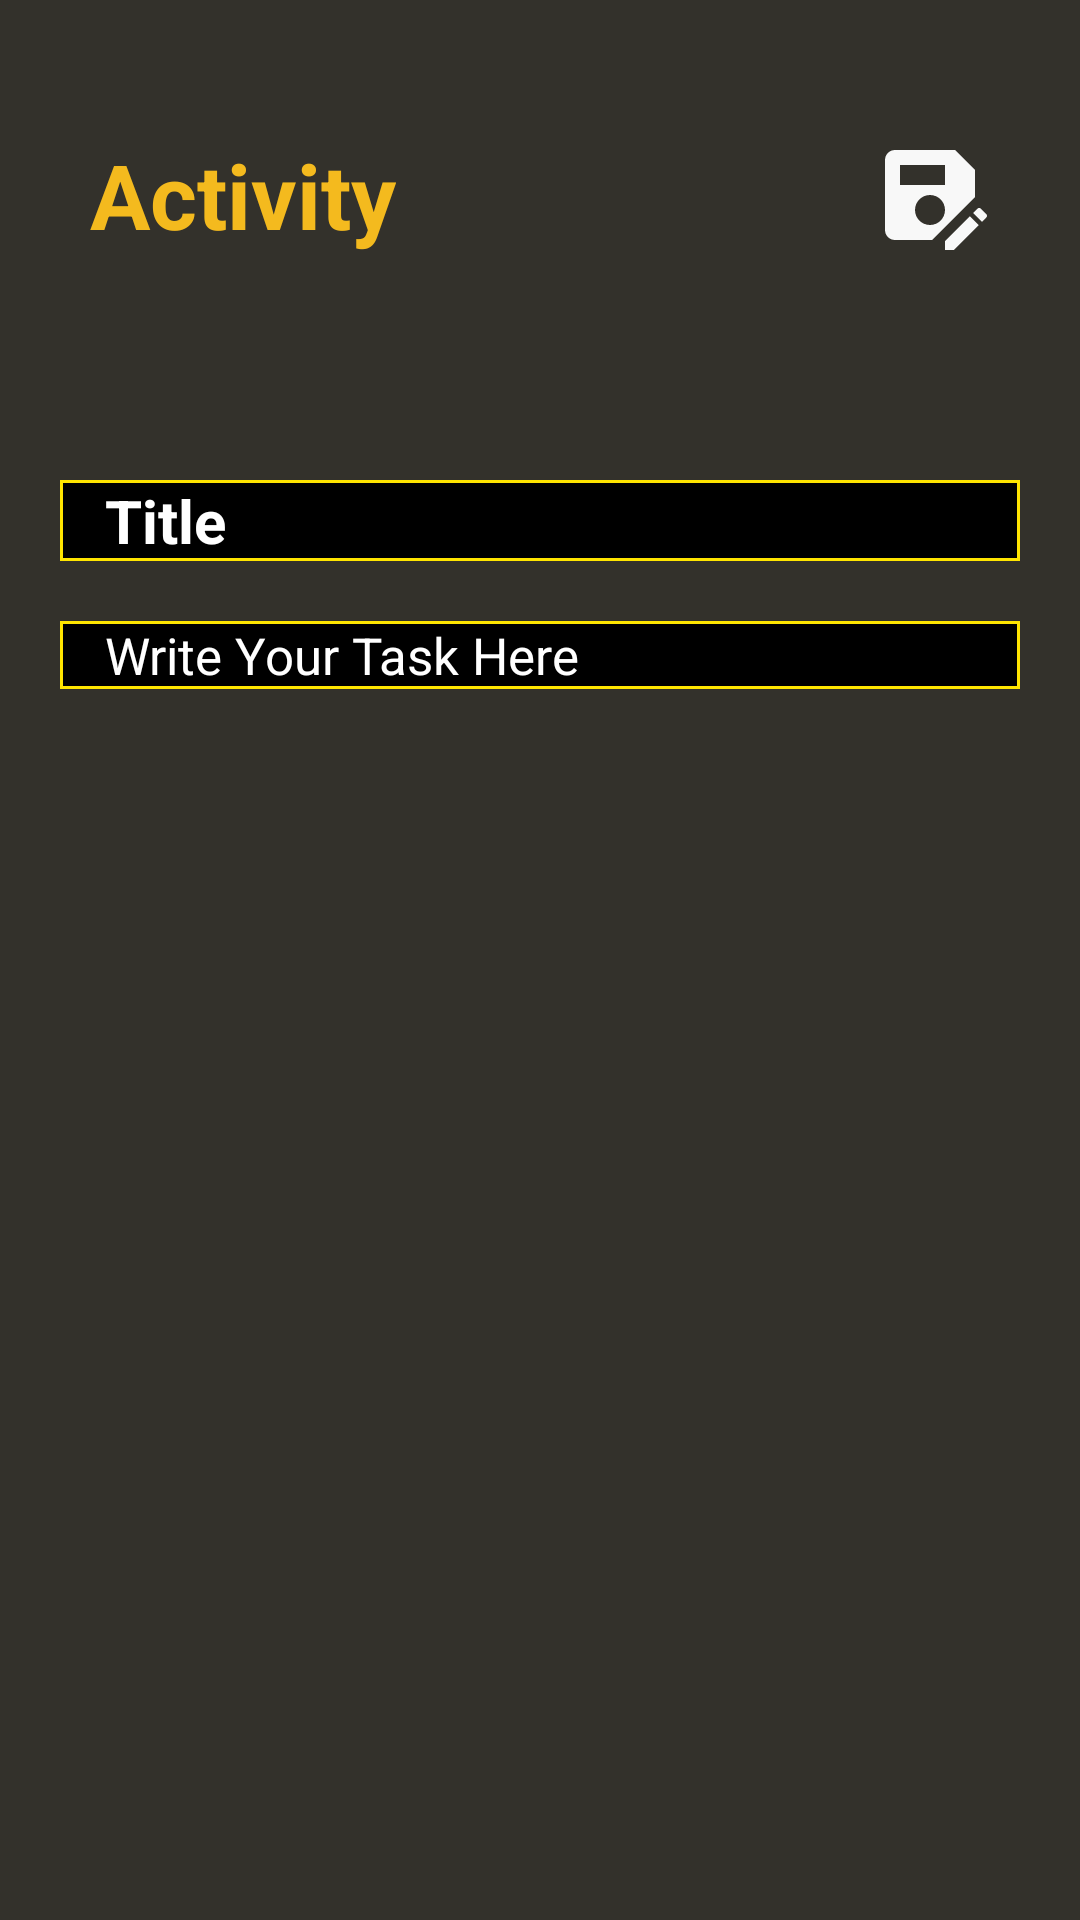

Where to tap for icons on this 1080*1920 app screen, as (x,y):
save: (936,200)
